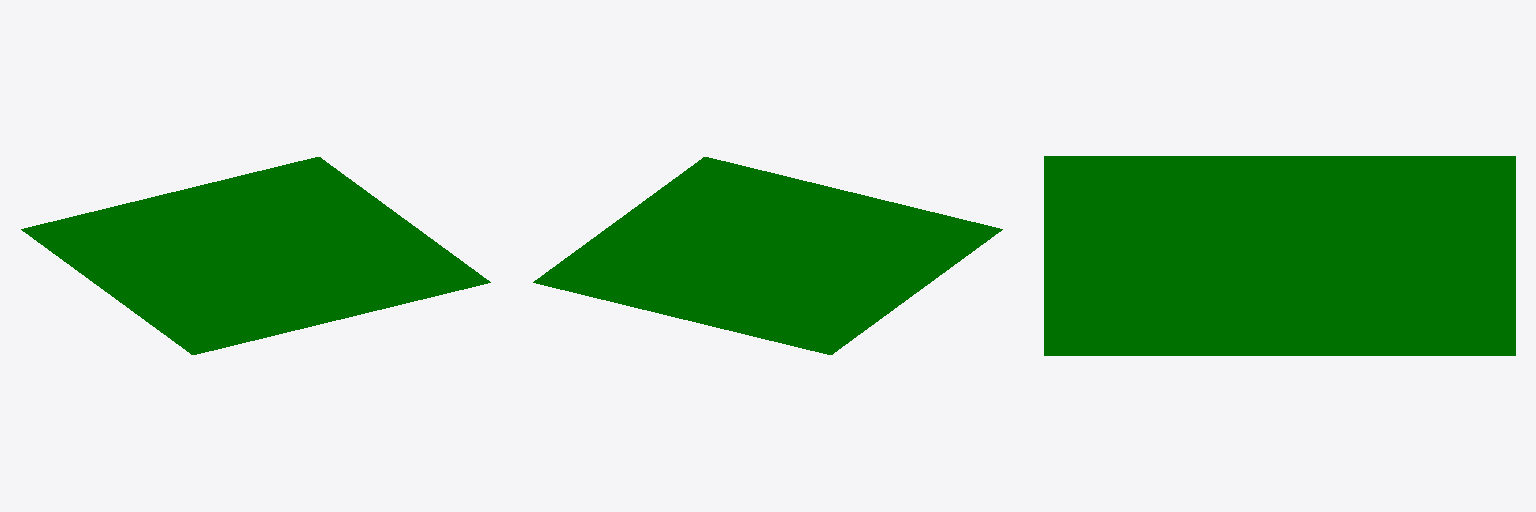
The robot description file, URDF, robot "lights":
<?xml version="1.0"?>
<robot name="lights">

<link name="base_link">   
</link>

<link name="world">   
<visual>
<geometry>
<box size="10000 10000 .01"/>
</geometry>
<material name="green">
<color rgba="0 0.5 0 1" />
</material>
</visual>
</link>

<!-- links  -->

<joint name="base_link_to_world" type="fixed">
<origin rpy="0 0 0" xyz="0.0 0.0 -0.005"/>
<parent link="base_link"/>
<child link="world"/>
</joint>

<!-- joints  -->

</robot>

--- What the picture shows (computed from the rendered views, not written in the file) ---
The picture shows the robot from 3 angles, left to right: view 1: azimuth 30°, elevation 25°; view 2: azimuth 150°, elevation 25°; view 3: azimuth 270°, elevation 25°; orthographic projection.
Model lights with 2 links and 1 joints (1 fixed), rooted at base_link, posed all joints at 0.
Visible links, largest first — view 1: world; view 2: world; view 3: world.
Boxes of the visible links, x1,y1,x2,y2 form: world: [21, 157, 490, 354]; world: [533, 157, 1002, 354]; world: [1044, 156, 1515, 355].
Bounding box of the posed robot: 10000 × 10000 × 0.01 m (x, y, z).
Geometry: primitives only (box / cylinder / sphere), no mesh files.
